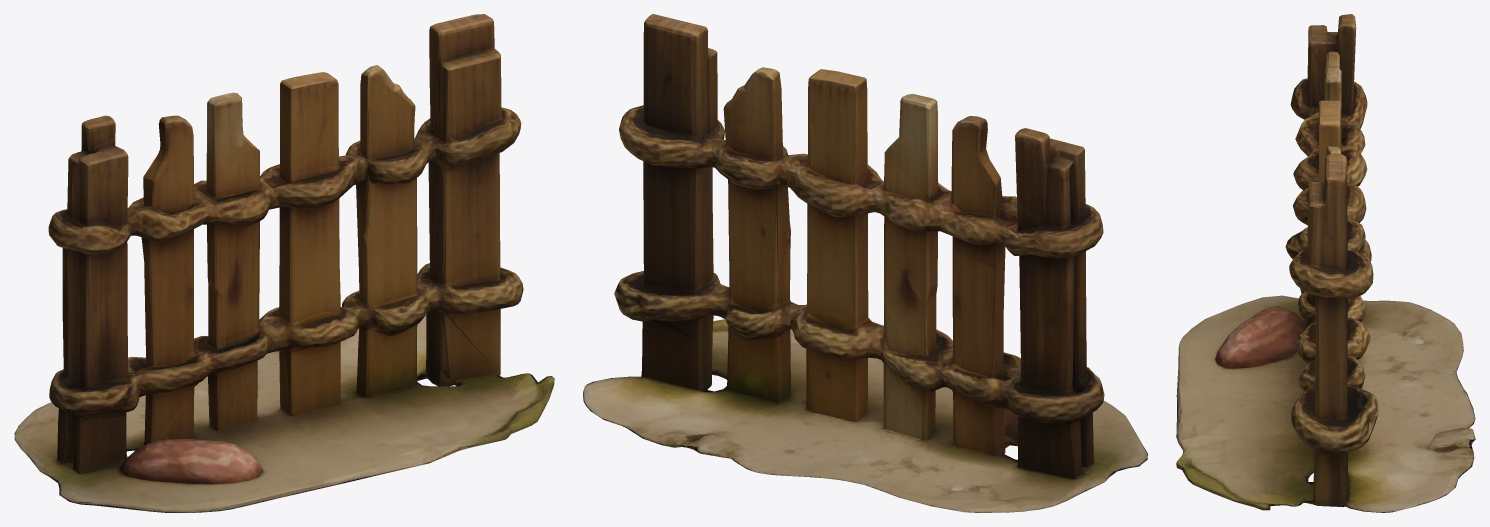
The picture shows the model from 3 angles, left to right: view 1: azimuth 30°, elevation 25°; view 2: azimuth 150°, elevation 25°; view 3: azimuth 270°, elevation 25°; orthographic projection. The views are drawn at different scales.
Parts seen in each view (by area): view 1: world; view 2: world; view 3: world.
Boxes of the visible parts, <box> form: world: <box>14,14,554,512</box>; world: <box>583,14,1147,512</box>; world: <box>1176,14,1475,512</box>.
Size of the model in its own units: 0.9967 by 0.6963 by 0.5739.
1 material, 1 textured.
